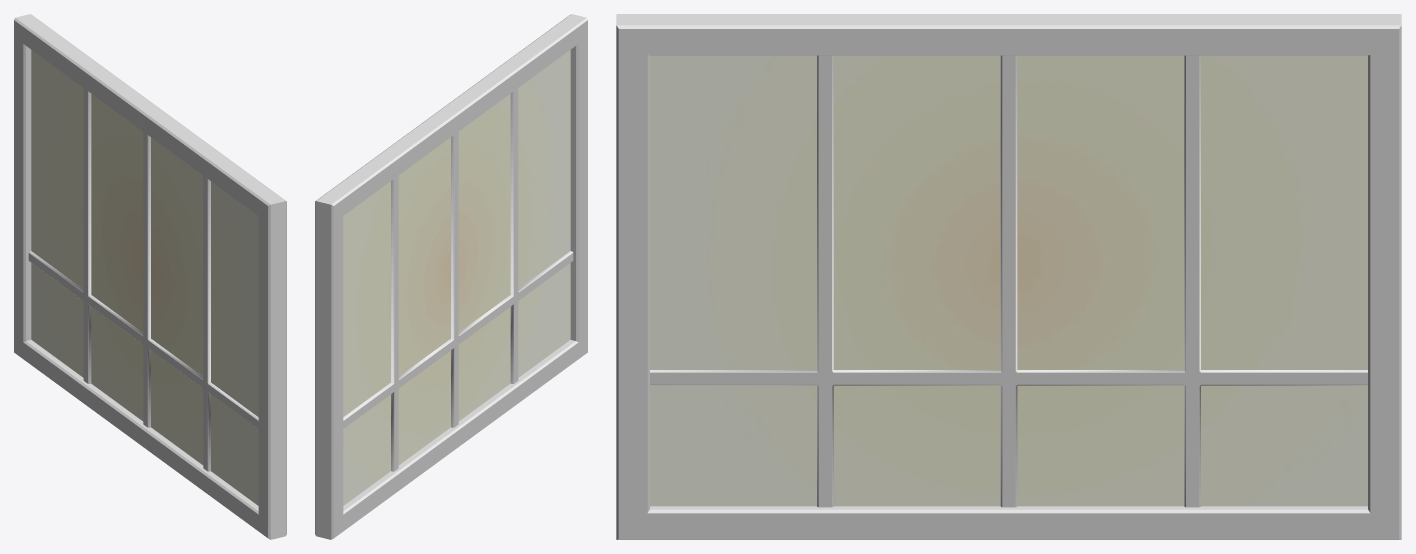
The model's file is aws_RoomWindow_01_visual.DAE.
The picture shows the model from 3 angles, left to right: view 1: azimuth 30°, elevation 25°; view 2: azimuth 150°, elevation 25°; view 3: azimuth 270°, elevation 25°; orthographic projection. The views are drawn at different scales.
Visible parts, largest first — view 1: aws_RoomWindow_01_visual; view 2: aws_RoomWindow_01_visual; view 3: aws_RoomWindow_01_visual.
Part boxes in pixels (x1,y1,x2,y2): aws_RoomWindow_01_visual: (14, 14, 286, 539); aws_RoomWindow_01_visual: (315, 14, 587, 539); aws_RoomWindow_01_visual: (616, 14, 1401, 539).
Bounding box in the file's own units: 9.99 × 235 × 170.
1 material, 1 textured.
